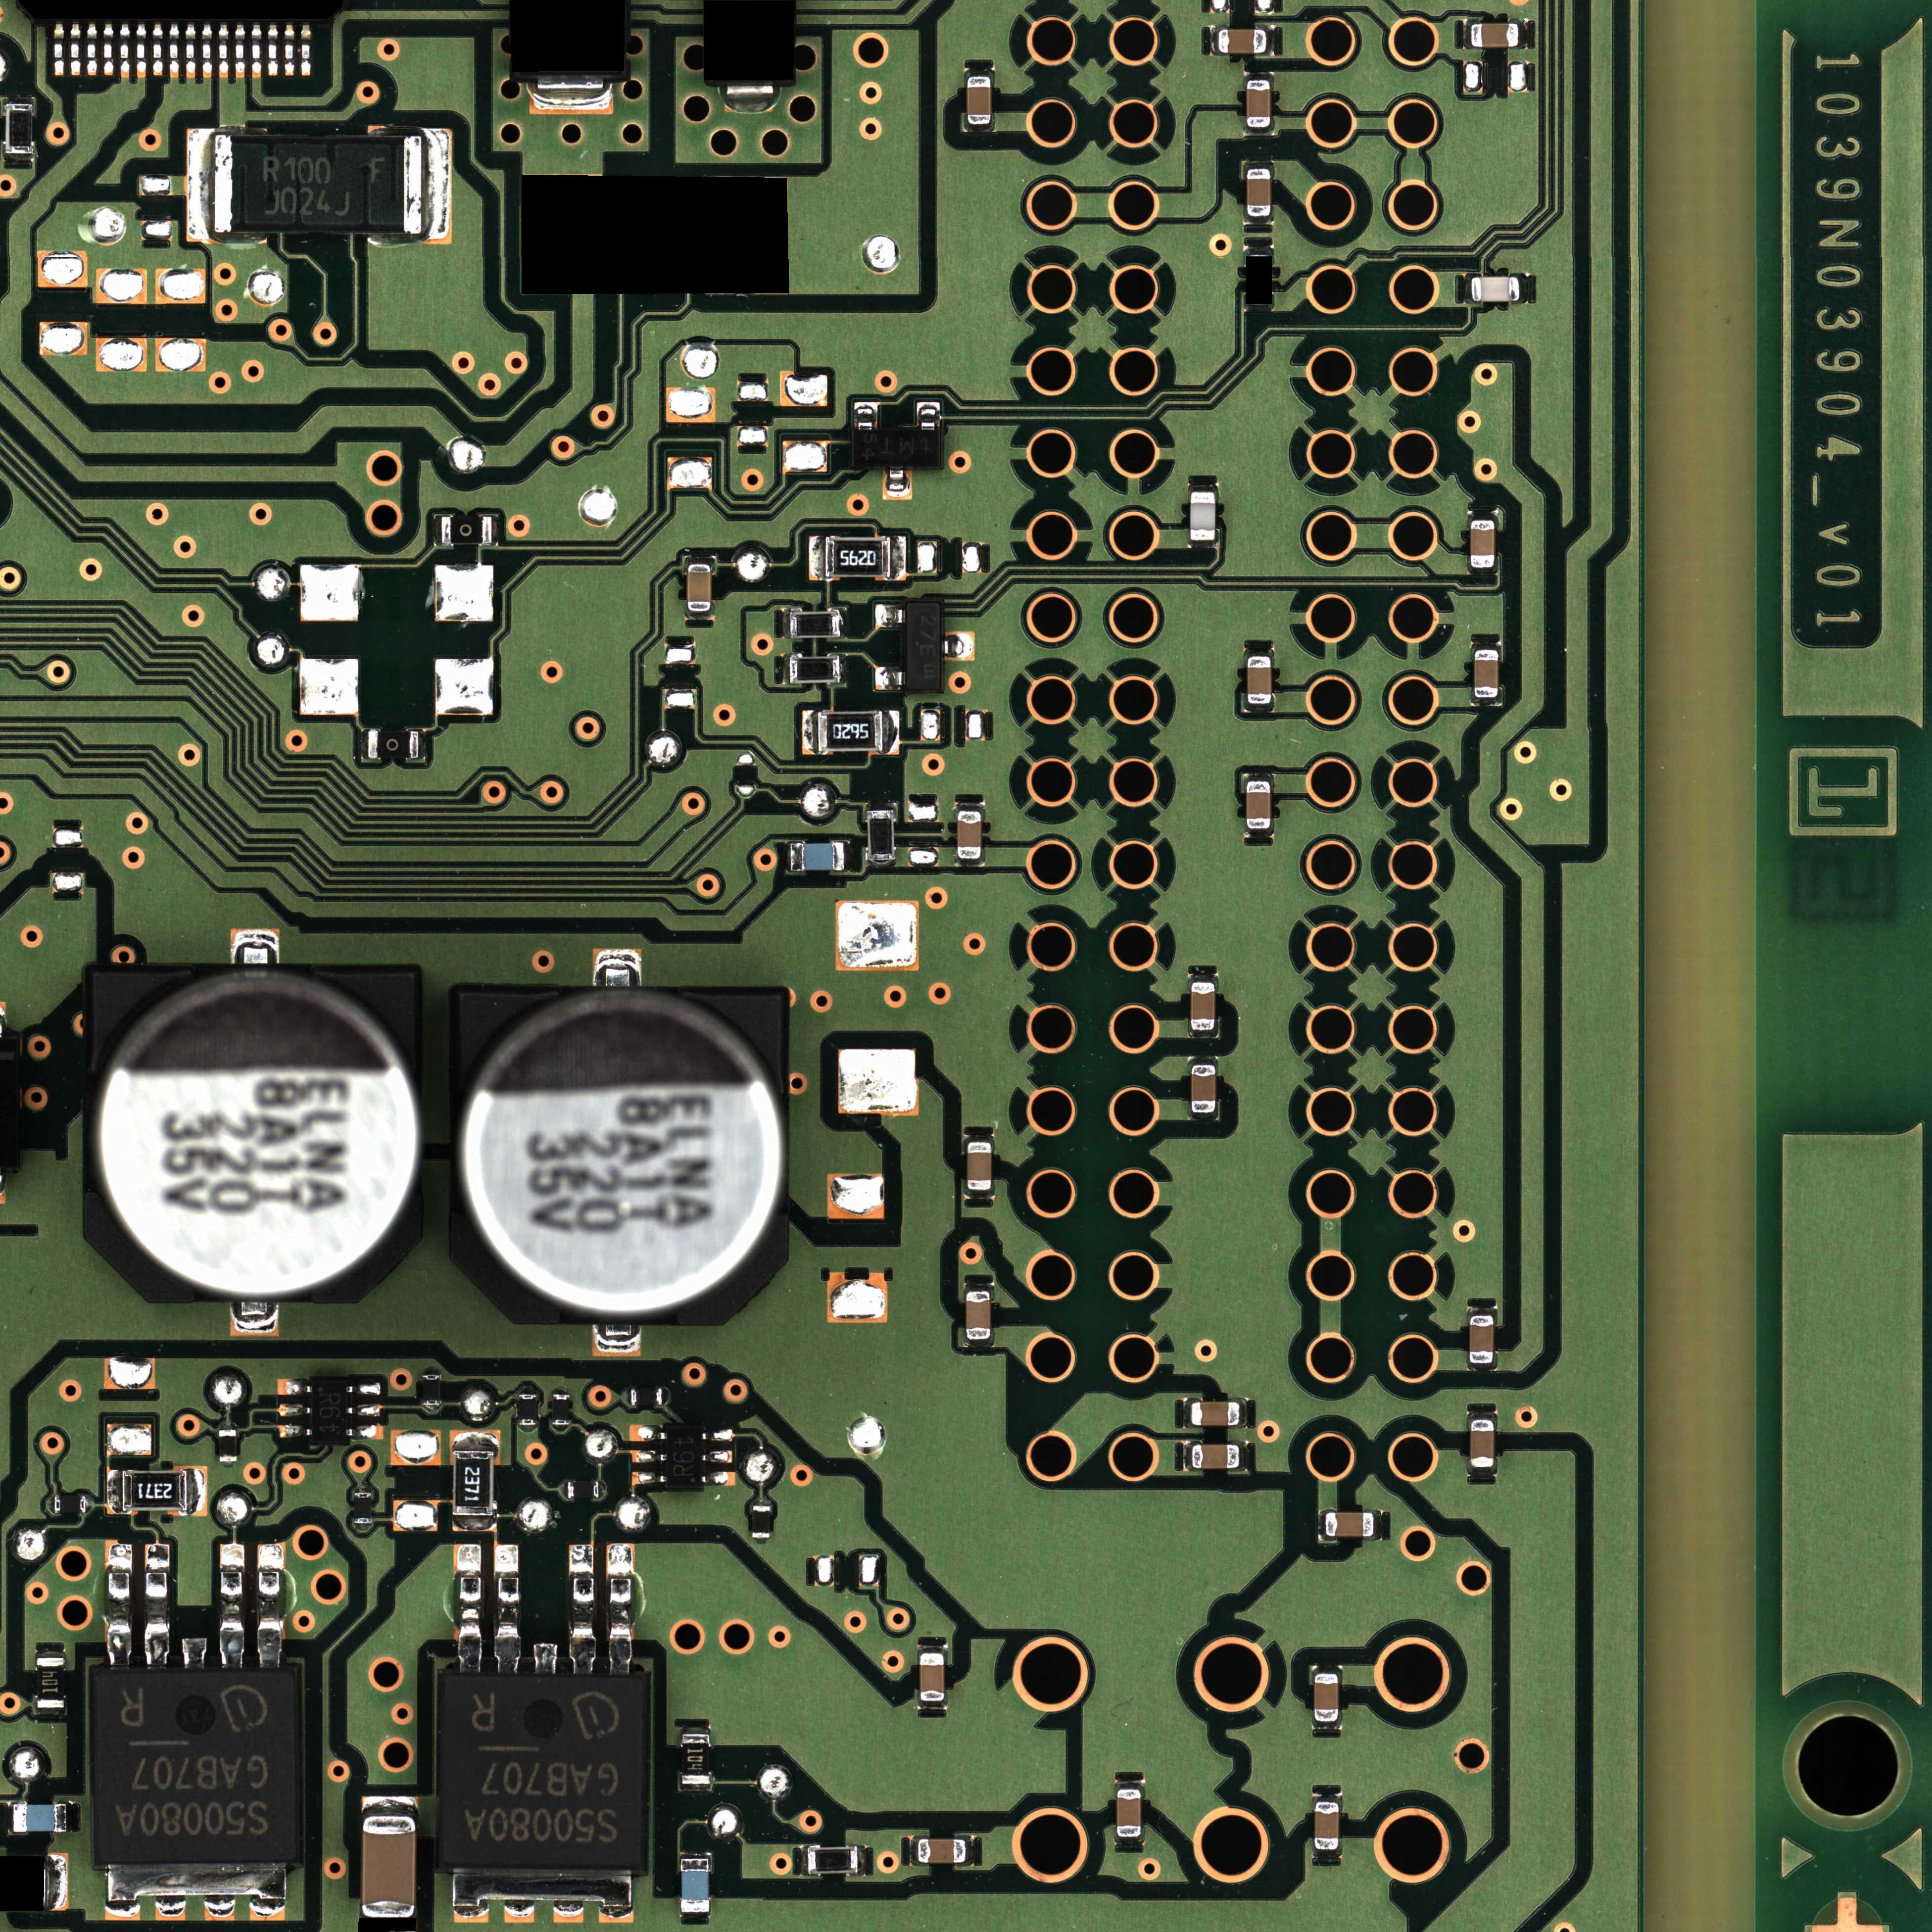Package: (451, 987, 789, 1323), (85, 970, 421, 1299), (442, 1675, 642, 1865), (97, 1672, 297, 1861), (216, 134, 421, 234), (363, 1817, 416, 1918), (853, 428, 939, 467), (904, 602, 941, 690), (817, 711, 883, 752), (824, 536, 890, 577), (122, 1470, 188, 1511), (453, 1451, 494, 1516), (311, 1378, 347, 1440), (667, 1426, 702, 1488), (791, 842, 844, 870), (681, 1859, 709, 1913), (12, 1805, 65, 1833), (368, 731, 419, 759), (442, 517, 492, 545), (681, 1734, 709, 1783), (789, 656, 840, 683), (5, 104, 32, 154), (37, 1658, 64, 1707), (809, 1847, 858, 1874), (1472, 276, 1520, 303), (1219, 28, 1267, 55), (869, 810, 893, 860), (791, 612, 840, 637), (916, 1838, 966, 1863), (1191, 492, 1215, 541), (1325, 1513, 1375, 1537), (1191, 1401, 1240, 1426), (966, 1292, 991, 1339), (957, 810, 982, 858), (1470, 23, 1518, 48), (1470, 520, 1495, 568), (1474, 649, 1499, 697), (1246, 80, 1270, 127), (1247, 656, 1272, 704), (968, 1143, 993, 1191), (1470, 1419, 1495, 1467), (1191, 1444, 1238, 1468), (1191, 982, 1215, 1030), (920, 1652, 945, 1700), (1116, 1789, 1141, 1836), (1191, 1065, 1215, 1113), (686, 564, 711, 610), (1246, 782, 1270, 828), (1315, 1803, 1339, 1849), (968, 76, 991, 124), (1315, 1674, 1338, 1721), (1247, 170, 1270, 216), (1470, 1316, 1493, 1362), (752, 1506, 771, 1537), (518, 1394, 538, 1426), (423, 1375, 441, 1407), (219, 1430, 237, 1461), (568, 1481, 600, 1499), (552, 1394, 570, 1426), (53, 1495, 85, 1513), (354, 1493, 372, 1523), (630, 1389, 662, 1405)
Solder: (104, 1861, 285, 1916), (453, 1865, 633, 1918), (607, 1543, 633, 1675), (421, 129, 451, 242), (257, 1545, 283, 1668), (456, 1543, 481, 1674), (570, 1545, 594, 1675), (495, 1545, 520, 1675), (106, 1543, 131, 1668), (219, 1543, 244, 1668), (143, 1545, 168, 1668), (188, 129, 214, 242), (531, 83, 616, 115), (594, 950, 640, 987), (232, 929, 280, 962), (232, 1302, 278, 1332), (724, 87, 773, 113), (594, 1325, 640, 1353), (46, 1854, 69, 1909), (363, 1796, 418, 1817), (451, 1431, 501, 1451), (883, 467, 911, 499), (943, 632, 975, 660), (188, 1467, 205, 1514), (534, 1642, 557, 1675), (182, 1638, 207, 1668), (453, 1516, 497, 1532), (809, 536, 824, 580), (801, 709, 817, 754), (876, 603, 904, 628), (628, 1424, 667, 1442), (883, 711, 899, 754), (69, 23, 81, 76), (103, 23, 115, 76), (108, 1468, 122, 1514), (916, 402, 939, 430), (855, 402, 878, 430), (876, 667, 904, 690), (892, 536, 906, 580), (278, 1378, 311, 1396), (119, 23, 129, 78), (136, 23, 147, 78), (218, 23, 228, 78), (235, 23, 246, 78), (202, 23, 212, 78), (186, 23, 196, 78), (168, 23, 179, 78), (251, 23, 262, 78), (53, 23, 64, 76), (87, 23, 97, 76), (152, 23, 163, 76), (267, 23, 278, 76), (285, 23, 295, 76), (301, 23, 311, 76), (701, 1472, 736, 1486), (278, 1424, 311, 1438), (630, 1451, 667, 1463), (347, 1426, 379, 1440), (632, 1472, 667, 1484), (278, 1405, 311, 1417), (347, 1405, 380, 1417), (701, 1430, 734, 1442), (701, 1451, 732, 1463), (345, 1384, 380, 1394), (1468, 510, 1499, 520), (1244, 244, 1274, 255), (1182, 1442, 1192, 1470), (2, 154, 34, 163), (418, 729, 426, 761), (34, 1707, 65, 1716), (679, 1851, 711, 1859), (954, 858, 985, 867), (1187, 1113, 1219, 1122), (1311, 1721, 1343, 1730), (4, 96, 34, 104), (839, 655, 847, 685), (782, 609, 791, 639), (685, 556, 715, 564), (685, 612, 715, 621), (865, 801, 895, 810), (916, 1702, 947, 1711), (909, 1836, 918, 1867), (1244, 127, 1274, 136), (964, 67, 994, 76), (1244, 704, 1274, 713), (1244, 830, 1274, 839), (962, 1339, 993, 1348), (964, 1283, 994, 1292), (1187, 1056, 1217, 1065), (964, 1191, 994, 1200), (1115, 1836, 1145, 1845), (1115, 1780, 1145, 1789), (1311, 1665, 1341, 1674), (1311, 1851, 1341, 1859), (1520, 274, 1529, 304), (1210, 27, 1219, 55), (1246, 648, 1274, 656), (1189, 483, 1217, 492), (955, 801, 984, 810), (1189, 973, 1217, 982), (1313, 1792, 1341, 1801), (1518, 19, 1527, 48), (1468, 568, 1497, 577), (1468, 1306, 1497, 1315), (1468, 1468, 1497, 1477), (361, 729, 368, 761), (679, 1727, 711, 1734), (679, 1785, 711, 1792), (1242, 218, 1274, 225), (962, 126, 994, 133), (433, 515, 441, 545), (492, 515, 499, 545), (35, 1651, 65, 1658), (65, 1803, 73, 1833), (7, 1803, 14, 1833), (844, 842, 851, 872), (782, 655, 789, 685), (840, 609, 847, 639), (784, 842, 791, 872), (858, 1845, 865, 1875), (801, 1845, 809, 1875), (966, 1836, 973, 1867), (1244, 304, 1274, 311), (1244, 161, 1274, 168), (1244, 73, 1274, 80), (1187, 541, 1217, 548), (964, 1134, 994, 1141), (1189, 1031, 1219, 1039), (1318, 1511, 1325, 1541), (1375, 1511, 1382, 1541), (1463, 19, 1470, 50), (1472, 699, 1502, 706), (1467, 1412, 1497, 1419), (1467, 1364, 1497, 1371), (867, 860, 895, 867), (918, 1645, 947, 1652), (681, 1913, 709, 1920), (1267, 27, 1274, 55), (1244, 773, 1272, 780), (1240, 1399, 1247, 1428), (1184, 1399, 1191, 1428), (1240, 1442, 1247, 1470), (1465, 274, 1472, 303), (1472, 642, 1500, 649), (421, 1366, 442, 1375), (352, 1523, 373, 1532), (46, 1495, 55, 1514), (518, 1385, 536, 1394), (552, 1385, 570, 1394), (559, 1481, 568, 1499), (598, 1481, 607, 1499), (423, 1407, 442, 1414), (218, 1422, 237, 1430), (752, 1537, 771, 1545), (752, 1499, 771, 1506), (518, 1426, 538, 1433), (550, 1426, 570, 1433), (219, 1461, 237, 1468), (354, 1486, 372, 1493), (87, 1495, 94, 1513), (662, 1387, 669, 1405), (625, 1389, 632, 1405)
